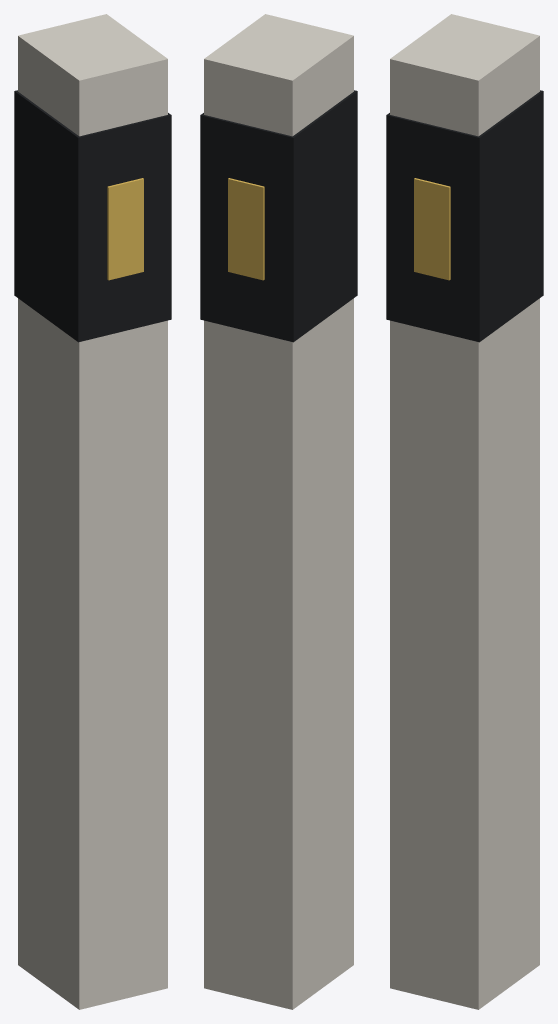
Rendered from kantstolpe.glb.
3 views of the same model, side by side, from view 1: azimuth 30°, elevation 25°; view 2: azimuth 150°, elevation 25°; view 3: azimuth 330°, elevation 25° (orthographic).
Visible parts, largest first — view 1: kantstolpe; view 2: kantstolpe; view 3: kantstolpe.
Part boxes in pixels (x1,y1,x2,y2): kantstolpe: [14, 14, 171, 1009]; kantstolpe: [200, 14, 357, 1009]; kantstolpe: [386, 14, 543, 1009].
Size of the model in its own units: 0.105 by 1 by 0.13.
